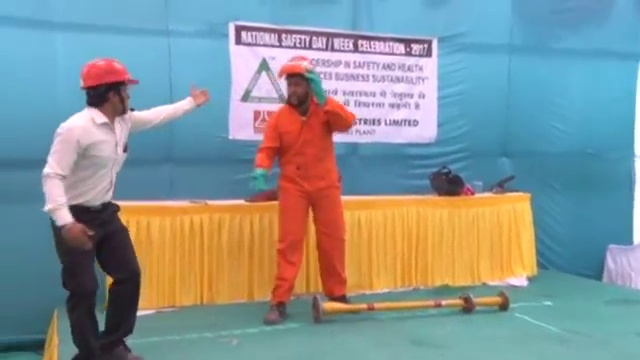helmet: (77, 56, 140, 91), (276, 54, 317, 77)
helmet_on: (76, 54, 141, 119), (275, 54, 318, 111)
person: (42, 53, 210, 360), (253, 56, 358, 318)
